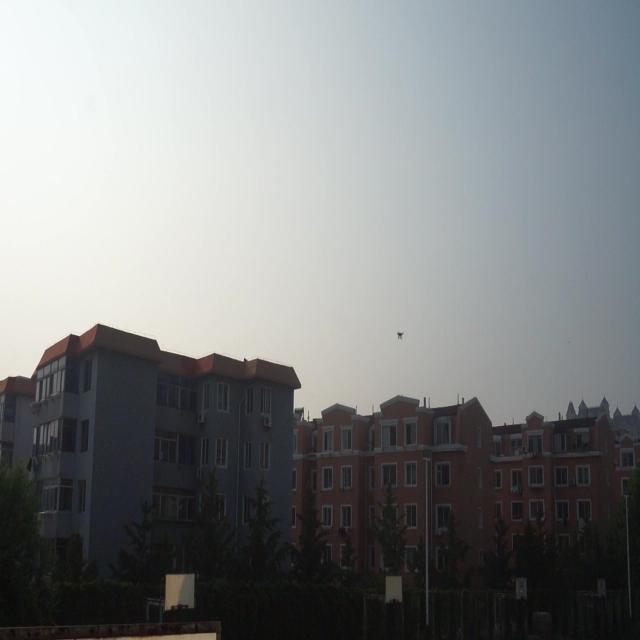drone: (394, 328, 405, 342)
